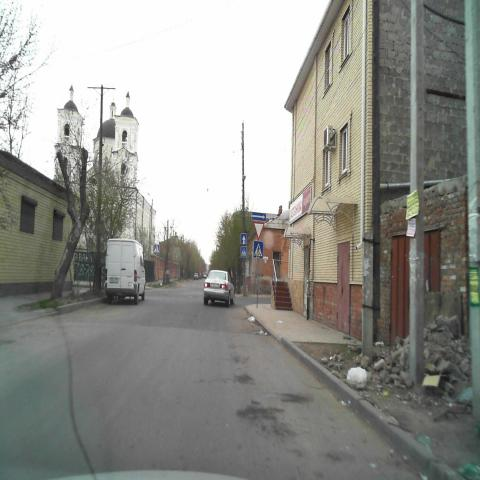5_7_1: (252, 212, 266, 221)
